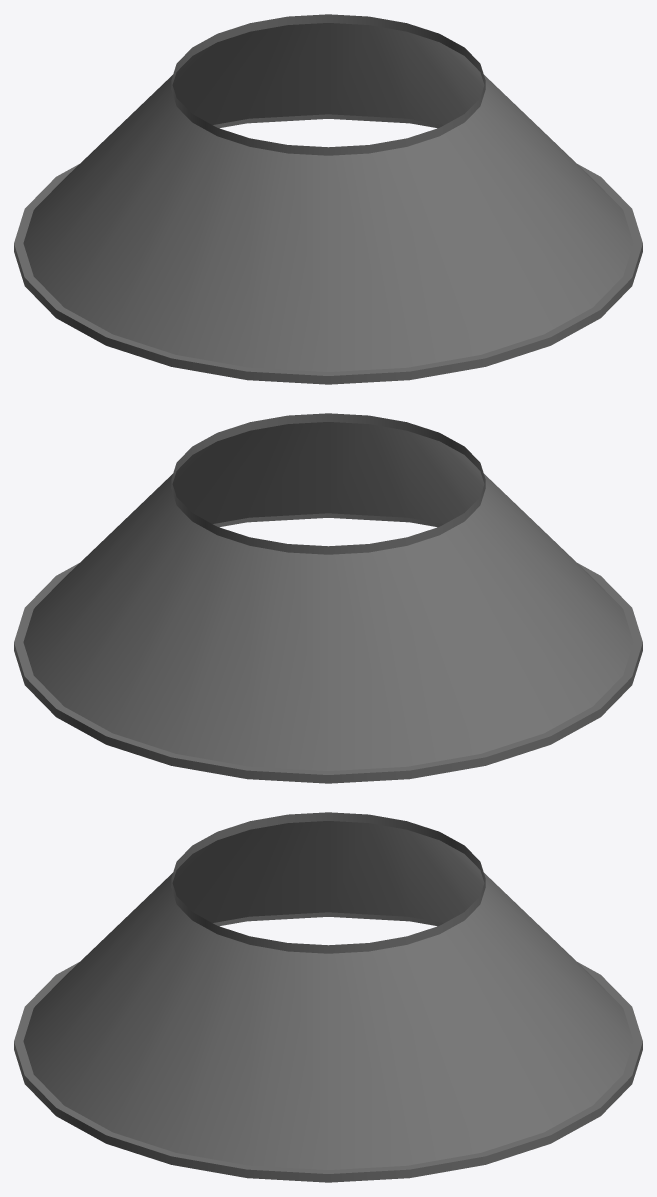
File: vega_adapter_s2_s1_1.obj
The picture shows the model from 3 angles, top to bottom: view 1: azimuth 30°, elevation 25°; view 2: azimuth 150°, elevation 25°; view 3: azimuth 270°, elevation 25°; orthographic projection.
Parts seen in each view (by area): view 1: vega_adapter_s2_s1_1; view 2: vega_adapter_s2_s1_1; view 3: vega_adapter_s2_s1_1.
Boxes of the visible parts, x1,y1,x2,y2 form: vega_adapter_s2_s1_1: (14, 14, 642, 384); vega_adapter_s2_s1_1: (14, 413, 642, 783); vega_adapter_s2_s1_1: (14, 812, 642, 1182).
Size of the model in its own units: 2.5 by 0.75 by 2.5.
